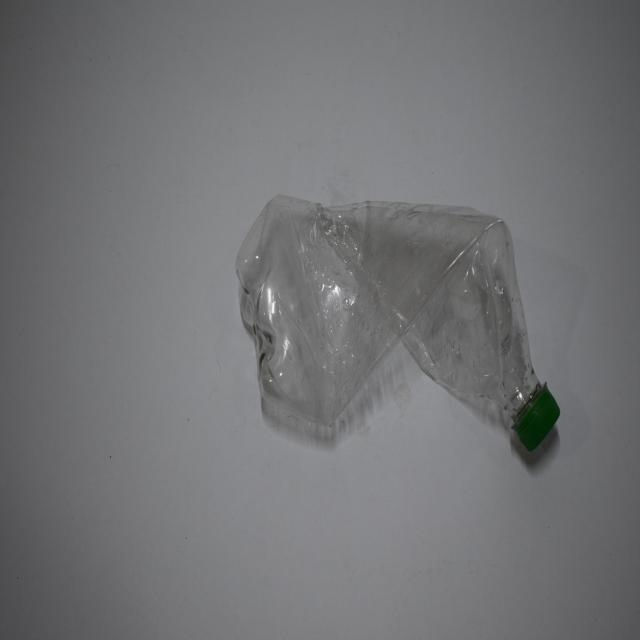bottle: (239, 173, 564, 504)
